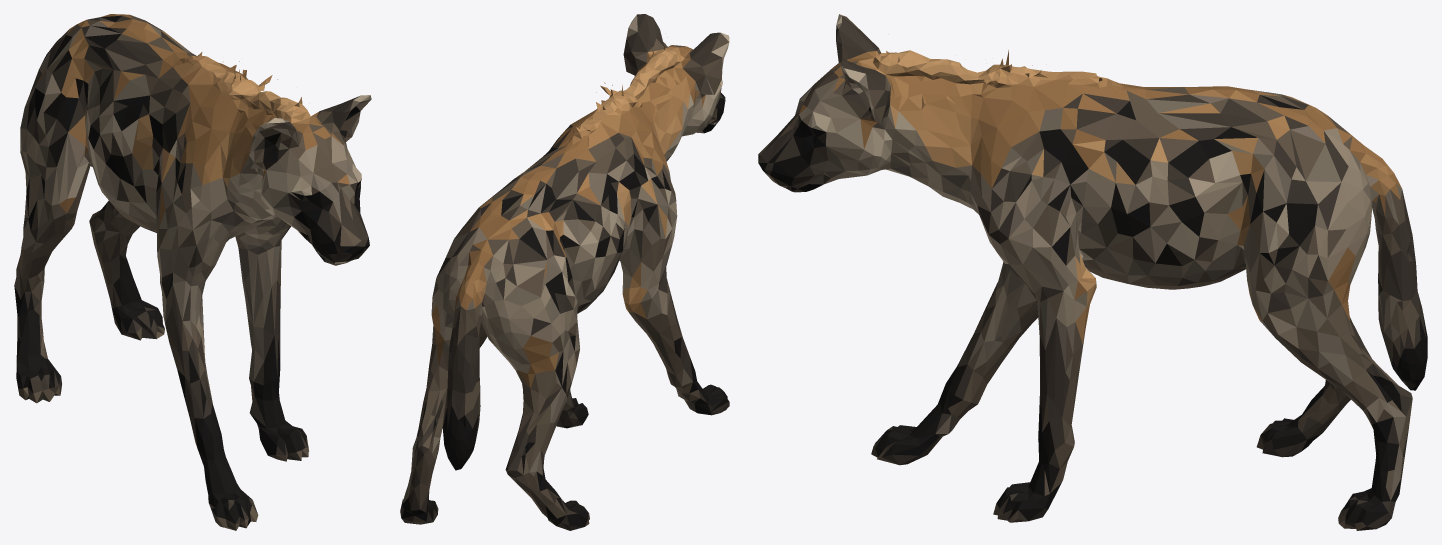
The model's file is crocuta_crocuta.glb.
3 renders of one model, left to right at view 1: azimuth 30°, elevation 25°; view 2: azimuth 150°, elevation 25°; view 3: azimuth 270°, elevation 25°, orthographic. The views are drawn at different scales.
Parts seen in each view (by area): view 1: lod0; view 2: lod0; view 3: lod0.
Part boxes in pixels (bbox=[...]): lod0: bbox=[14, 14, 371, 530]; lod0: bbox=[400, 14, 729, 530]; lod0: bbox=[758, 14, 1427, 530].
Size of what is drawn, in the model's own units: 0.3949 by 0.8819 by 1.18.
